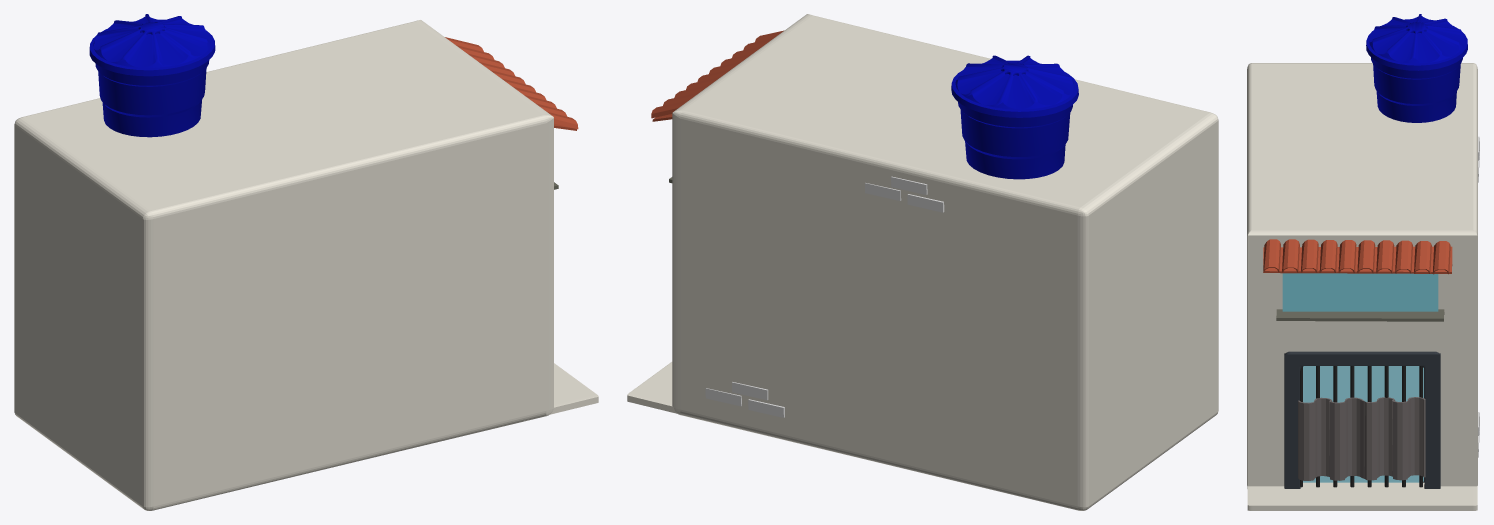
The model's file is casas2.fbx.
The picture shows the model from 3 angles, left to right: view 1: azimuth 30°, elevation 25°; view 2: azimuth 150°, elevation 25°; view 3: azimuth 270°, elevation 25°; orthographic projection. The views are drawn at different scales.
Parts seen in each view (by area): view 1: casa_2, caixa_d_agau; view 2: casa_2, caixa_d_agau; view 3: casa_2, caixa_d_agau.
Part boxes in pixels (x1=…): casa_2: x1=14, y1=20, x2=598, y2=510; caixa_d_agau: x1=89, y1=14, x2=215, y2=137; casa_2: x1=627, y1=14, x2=1218, y2=510; caixa_d_agau: x1=951, y1=55, x2=1078, y2=179; casa_2: x1=1247, y1=63, x2=1479, y2=510; caixa_d_agau: x1=1366, y1=14, x2=1467, y2=122.
Bounding box in the file's own units: 466 × 385 × 239.
